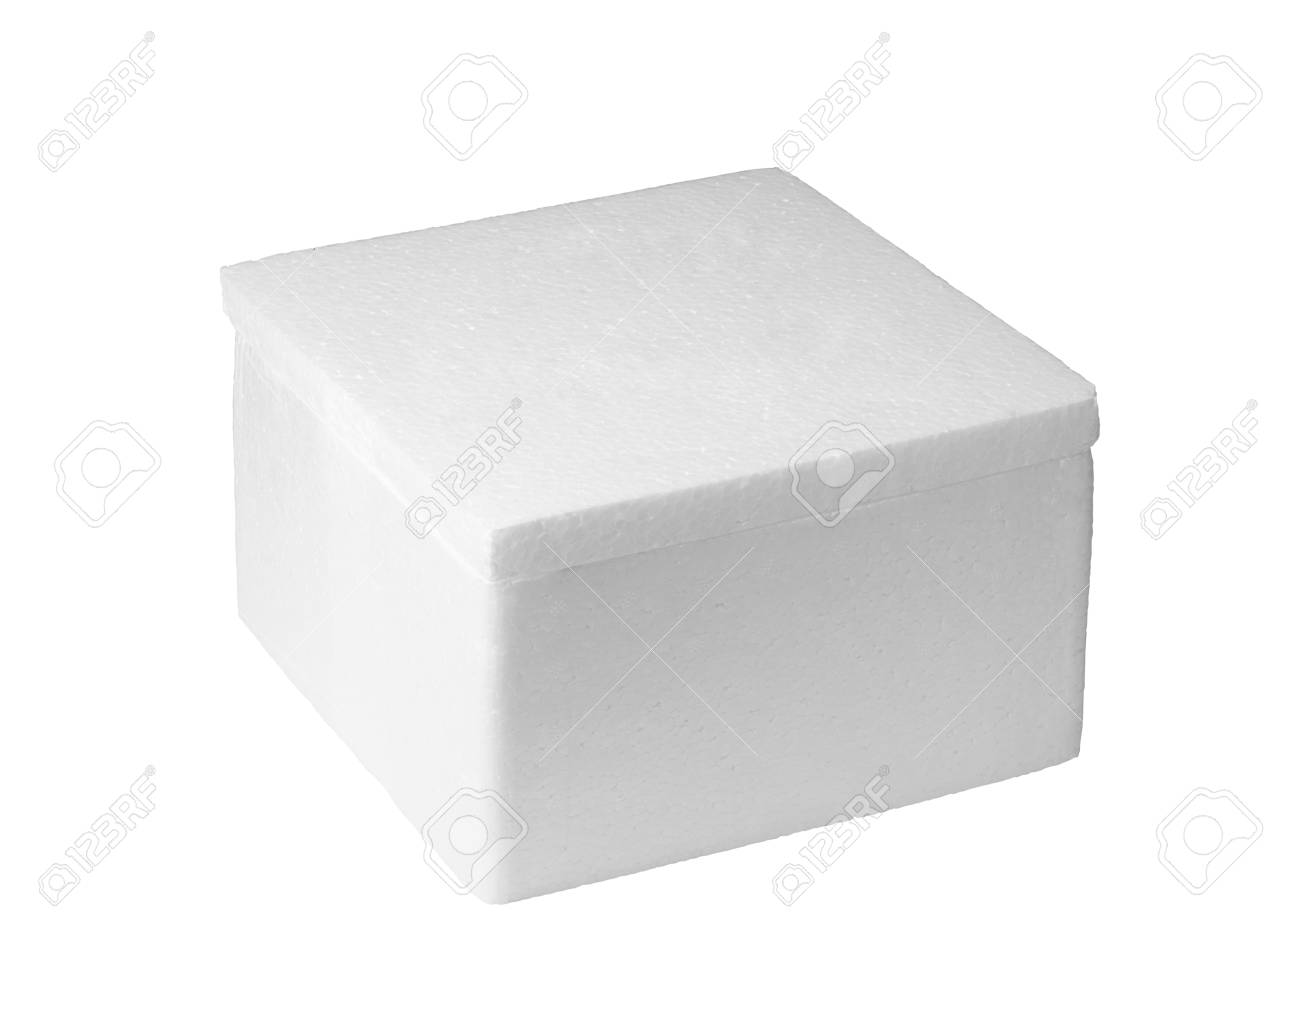Foam Box: (210, 161, 1108, 909)
